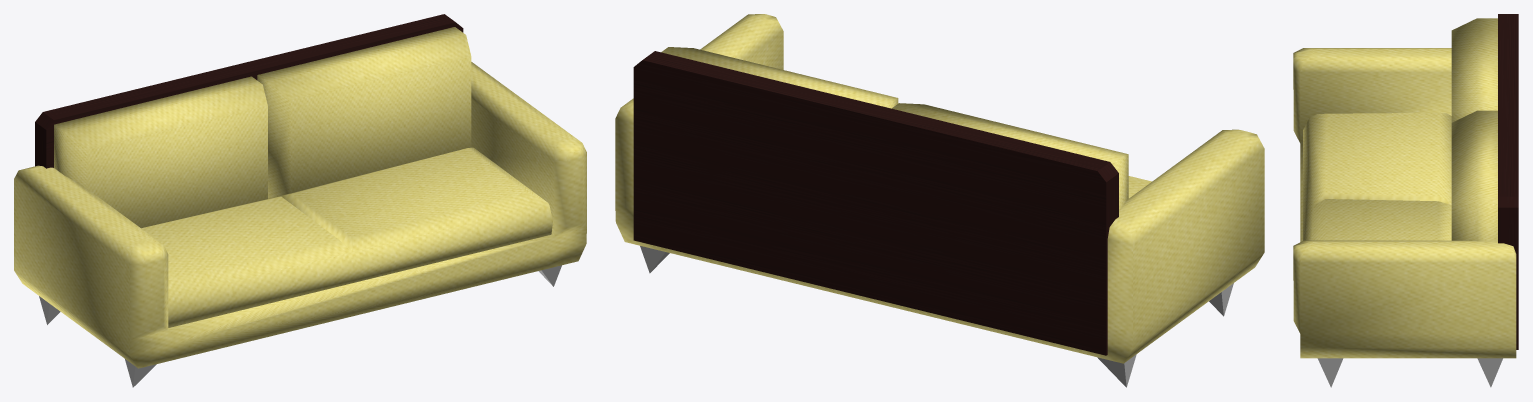
File: Loveseat_04.FBX
3 renders of one model, left to right at view 1: azimuth 30°, elevation 25°; view 2: azimuth 150°, elevation 25°; view 3: azimuth 270°, elevation 25°, orthographic. The views are drawn at different scales.
Visible parts, largest first — view 1: Loveseat; view 2: Loveseat; view 3: Loveseat.
Part boxes in pixels (left/top/right/bottom): Loveseat: left=14, top=14, right=586, bottom=387; Loveseat: left=615, top=14, right=1264, bottom=387; Loveseat: left=1293, top=14, right=1518, bottom=387.
Size of the model in its own units: 372 by 157 by 171.
